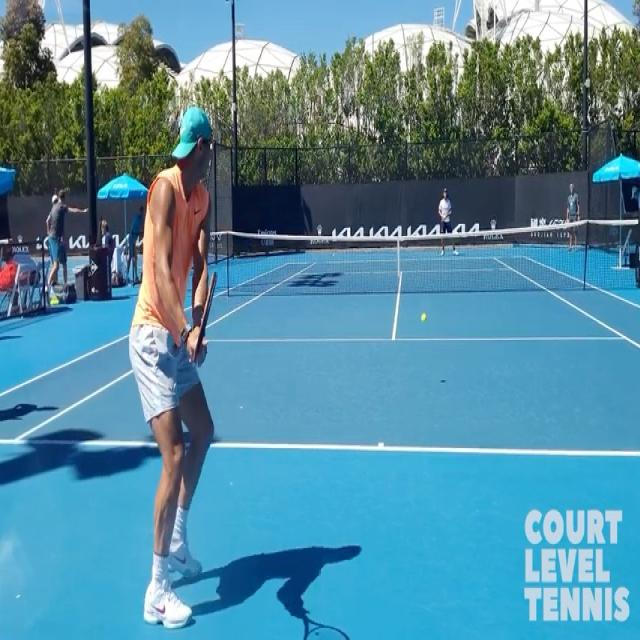backhand-ready: (106, 102, 242, 623)
